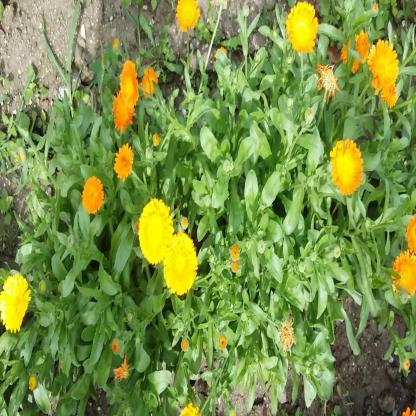marigold: (138, 199, 172, 263), (163, 238, 195, 295), (331, 138, 362, 194), (1, 274, 31, 330), (368, 40, 395, 100), (287, 4, 320, 53), (341, 28, 369, 74), (118, 58, 139, 113), (391, 253, 415, 301), (176, 0, 201, 33), (111, 92, 131, 133), (81, 176, 102, 214), (380, 72, 400, 107), (113, 144, 132, 179), (140, 66, 158, 96)
